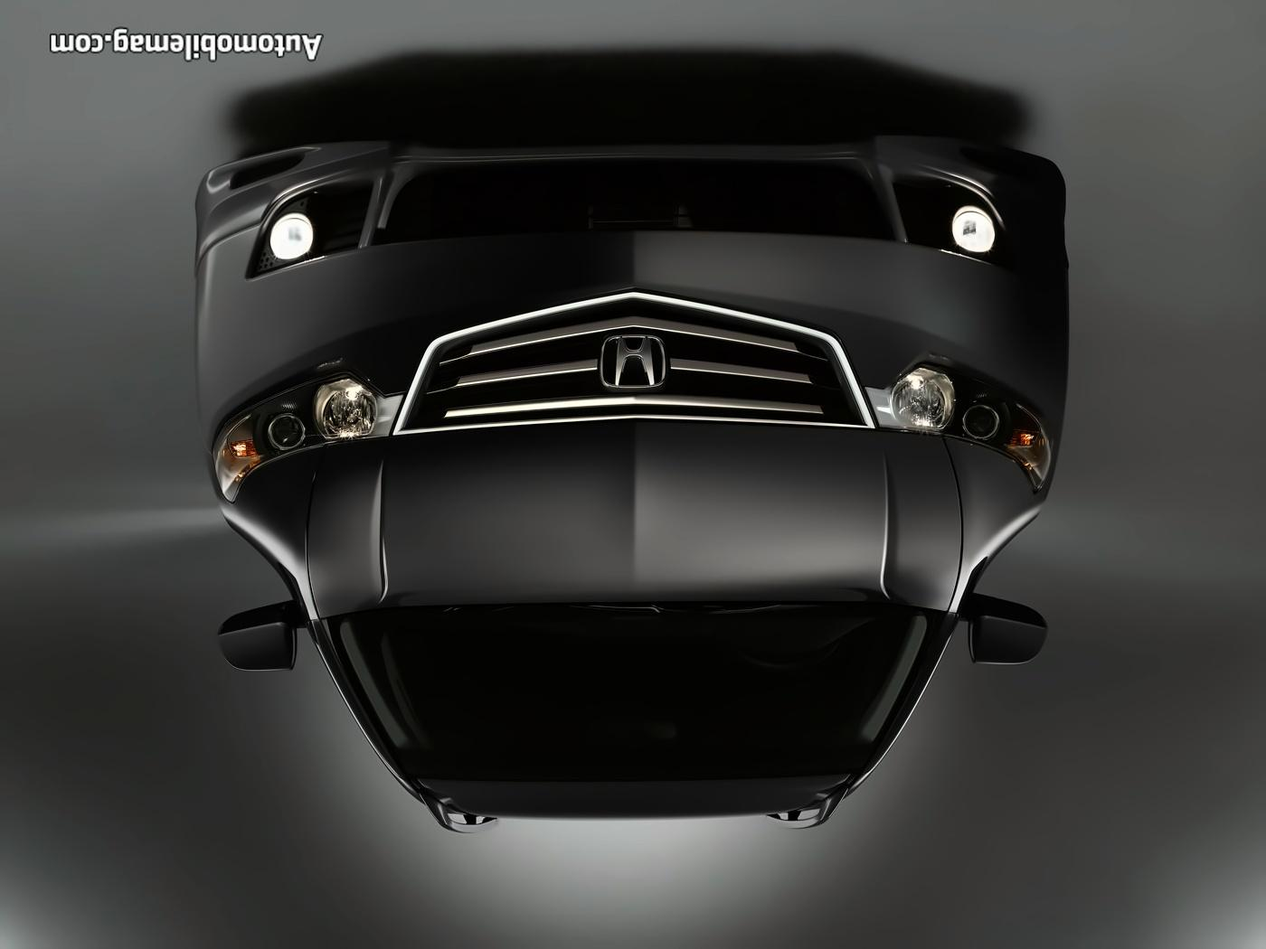Car hood: (293, 422, 966, 629)
Front bumper: (187, 143, 1087, 417)
Headlight - -L-: (200, 348, 419, 517)
Headlight - -R-: (858, 350, 1060, 505)
Side mirror - -L-: (217, 597, 306, 680)
Side mirror - -R-: (954, 594, 1043, 668)
